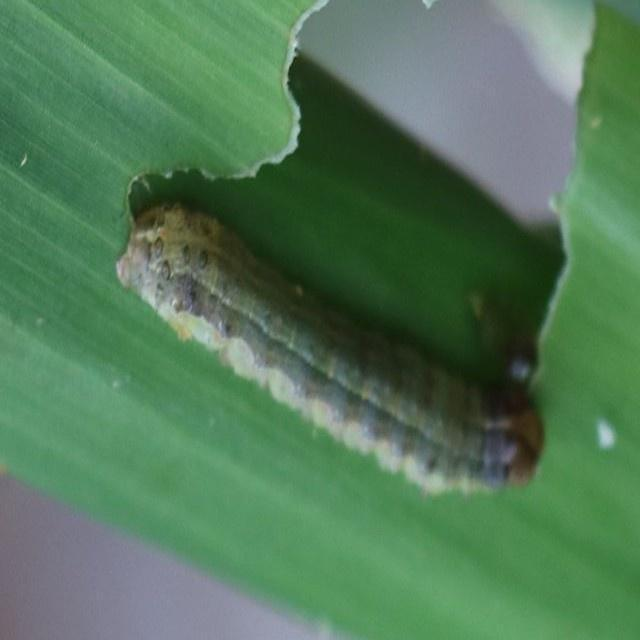gusano_cogollero: (114, 199, 543, 488)
